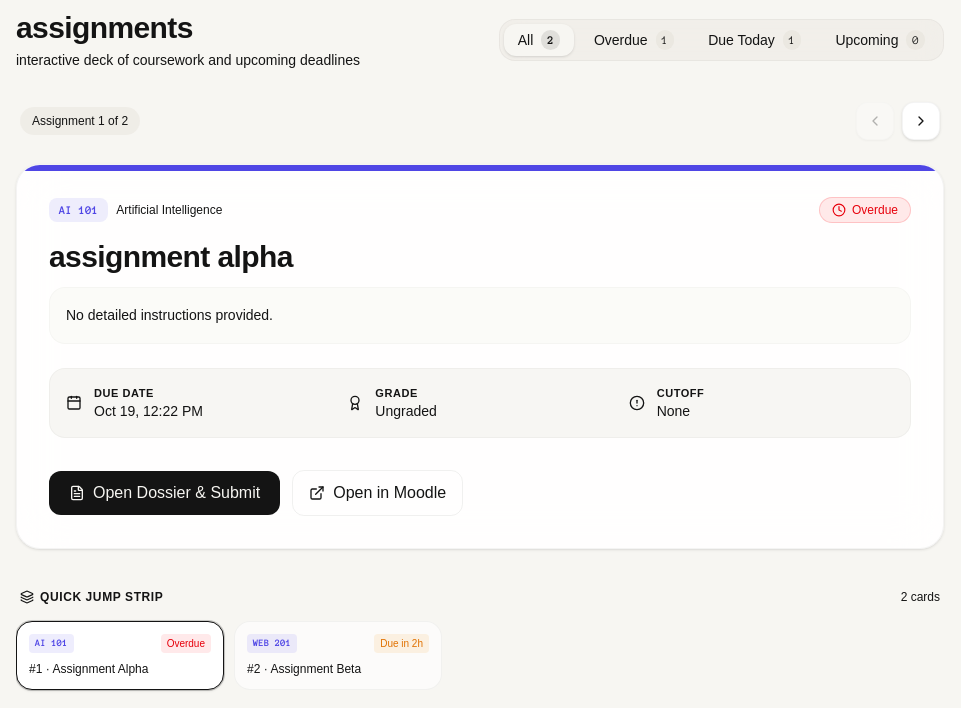
Scenario: AssignmentsPage › renders assignment carousel and supports left/right switching
Check: the heading "Assignment Alpha" is shown, box [49,240,293,273]
Click the button named "next assignment".
click(921, 121)  # box [902,102,940,140]
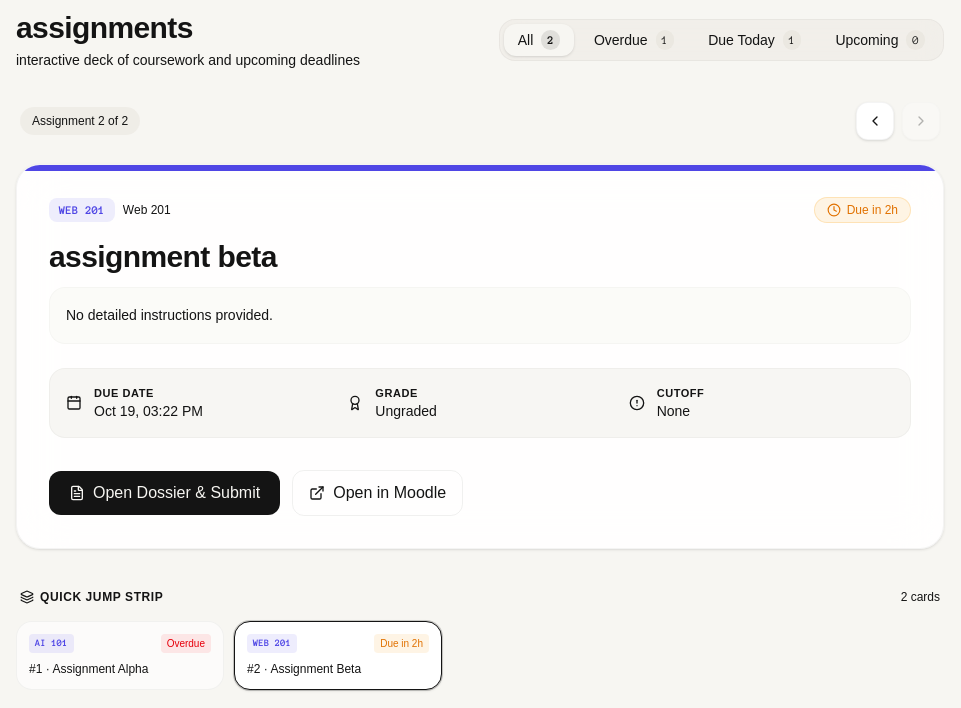
Check: the heading "Assignment Beta" is shown, box [49,240,277,273]
Click the button named "previous assignment".
click(875, 121)  # box [856,102,894,140]
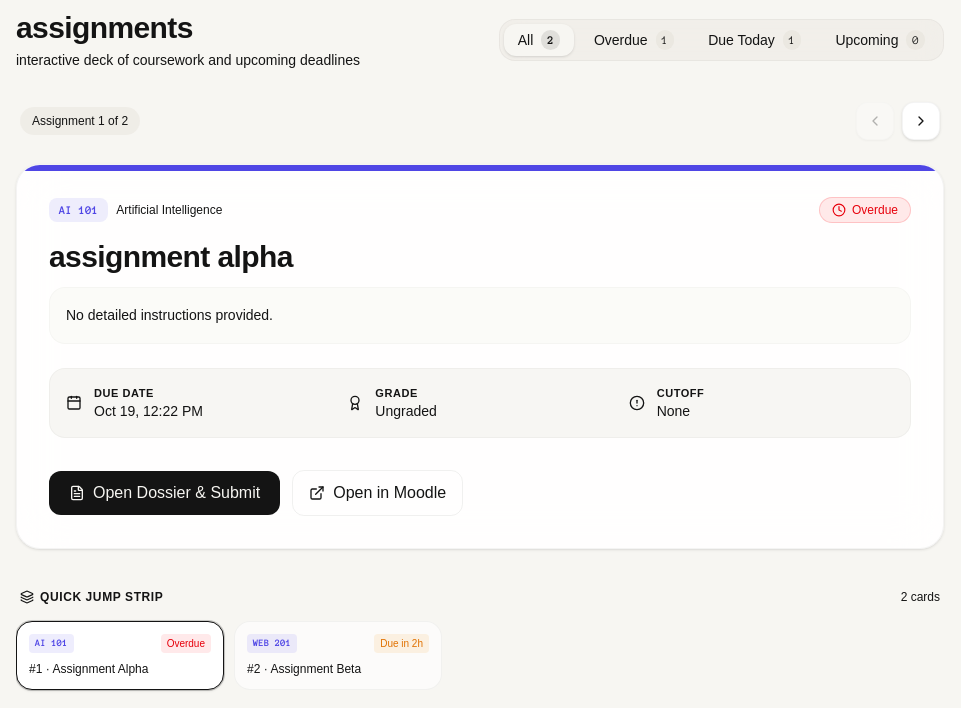
Check: the heading "Assignment Alpha" is shown, box [49,240,293,273]
